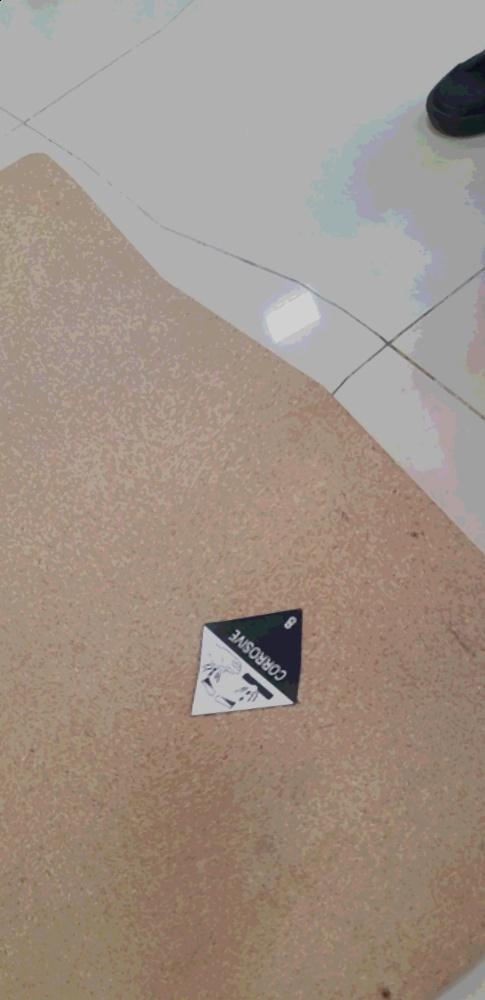corrosive: (187, 597, 308, 723)
